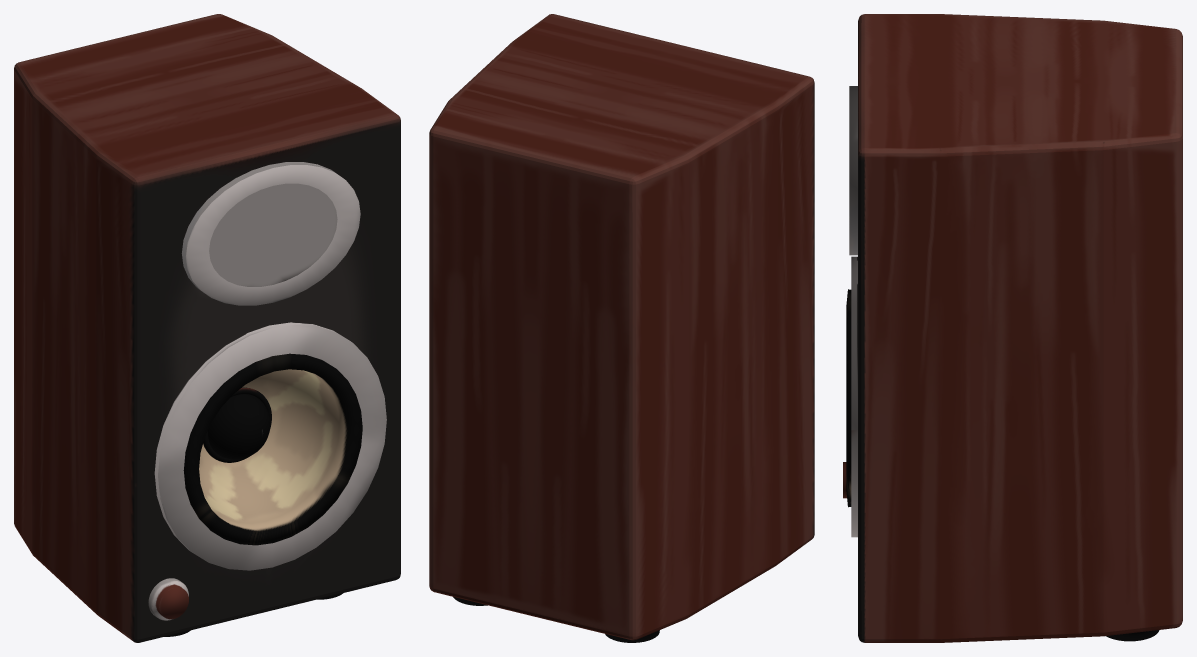
The model's file is Caixa_de_Som.fbx.
3 views of the same model, side by side, from view 1: azimuth 30°, elevation 25°; view 2: azimuth 150°, elevation 25°; view 3: azimuth 270°, elevation 25° (orthographic). The views are drawn at different scales.
Visible parts, largest first — view 1: Cube, Sphere, Cylinder, Cylinder.001, Sphere.001, Cylinder.003, Torus.001; view 2: Cube; view 3: Cube, Cylinder, Cylinder.001, Sphere.
Part boxes in pixels (left/top/right/bottom): Cube: left=14, top=14, right=400, bottom=642; Sphere: left=183, top=353, right=362, bottom=545; Cylinder: left=154, top=322, right=386, bottom=570; Cylinder.001: left=181, top=162, right=360, bottom=305; Sphere.001: left=208, top=394, right=270, bottom=459; Cylinder.003: left=148, top=578, right=188, bottom=620; Torus.001: left=203, top=387, right=271, bottom=462; Cube: left=429, top=14, right=814, bottom=640; Cube: left=858, top=14, right=1182, bottom=642; Cylinder: left=851, top=256, right=857, bottom=537; Cylinder.001: left=849, top=86, right=857, bottom=255; Sphere: left=846, top=289, right=851, bottom=507.
Size of the model in its own units: 200 by 341 by 207.
